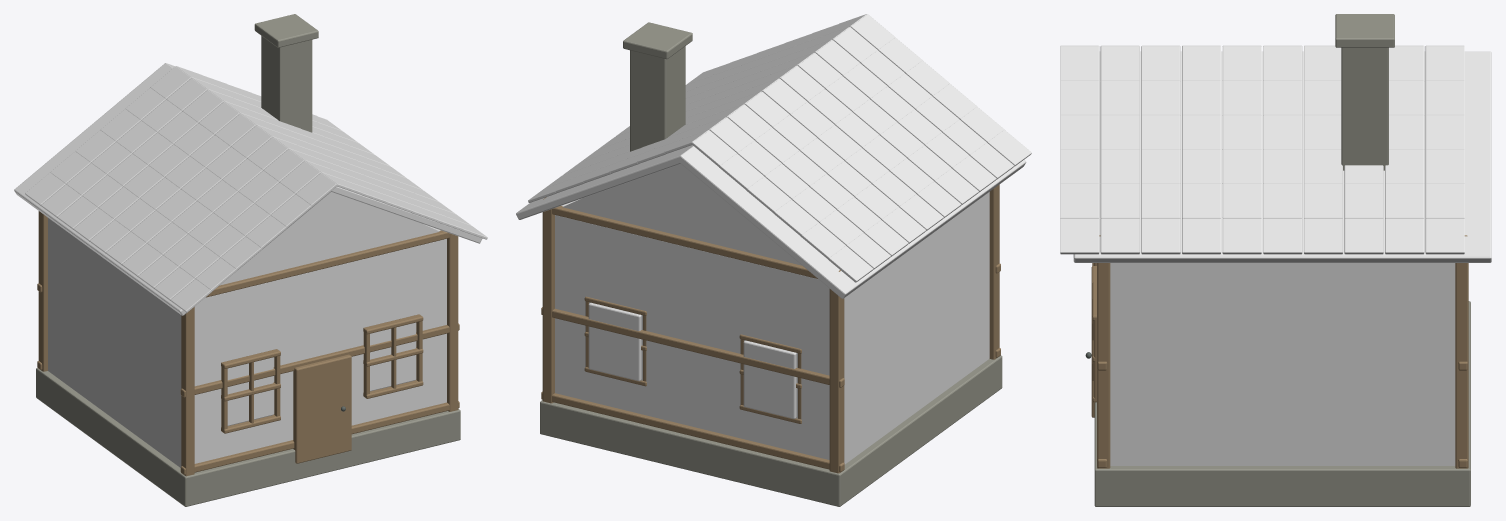
The model's file is house_0.glb.
3 renders of one model, left to right at view 1: azimuth 30°, elevation 25°; view 2: azimuth 150°, elevation 25°; view 3: azimuth 270°, elevation 25°, orthographic. The views are drawn at different scales.
Parts seen in each view (by area): view 1: corner timber; view 2: corner timber; view 3: corner timber.
Boxes of the visible parts, box(x1,y1,x2,y2) form: corner timber: box(14, 14, 487, 506); corner timber: box(516, 14, 1031, 506); corner timber: box(1060, 14, 1491, 506).
Bounding box in the file's own units: 7.36 × 8.14 × 7.23.
